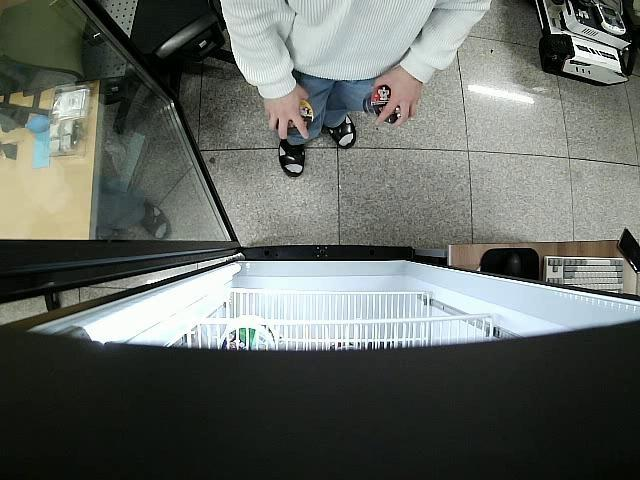08_buldak_S: (362, 88, 401, 123), (287, 98, 314, 136)
